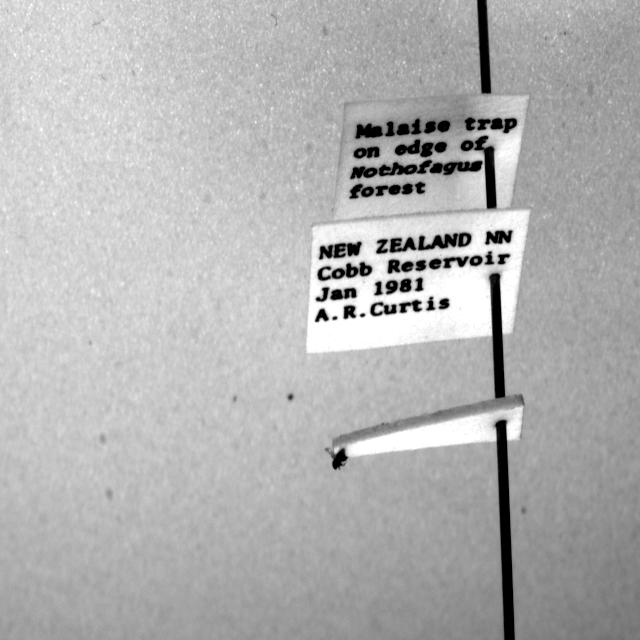typed_label: (306, 208, 530, 352), (332, 94, 529, 219)
